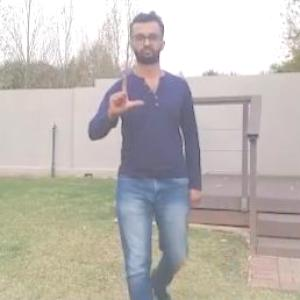land_hand: (104, 66, 146, 121)
